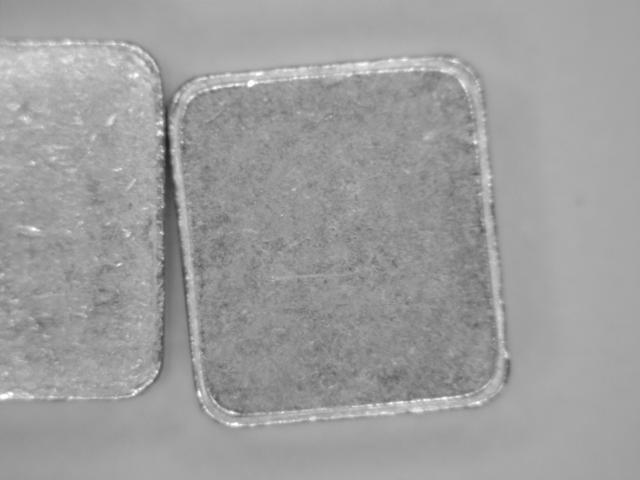nok: (165, 50, 526, 434)
ok: (3, 35, 167, 411)
